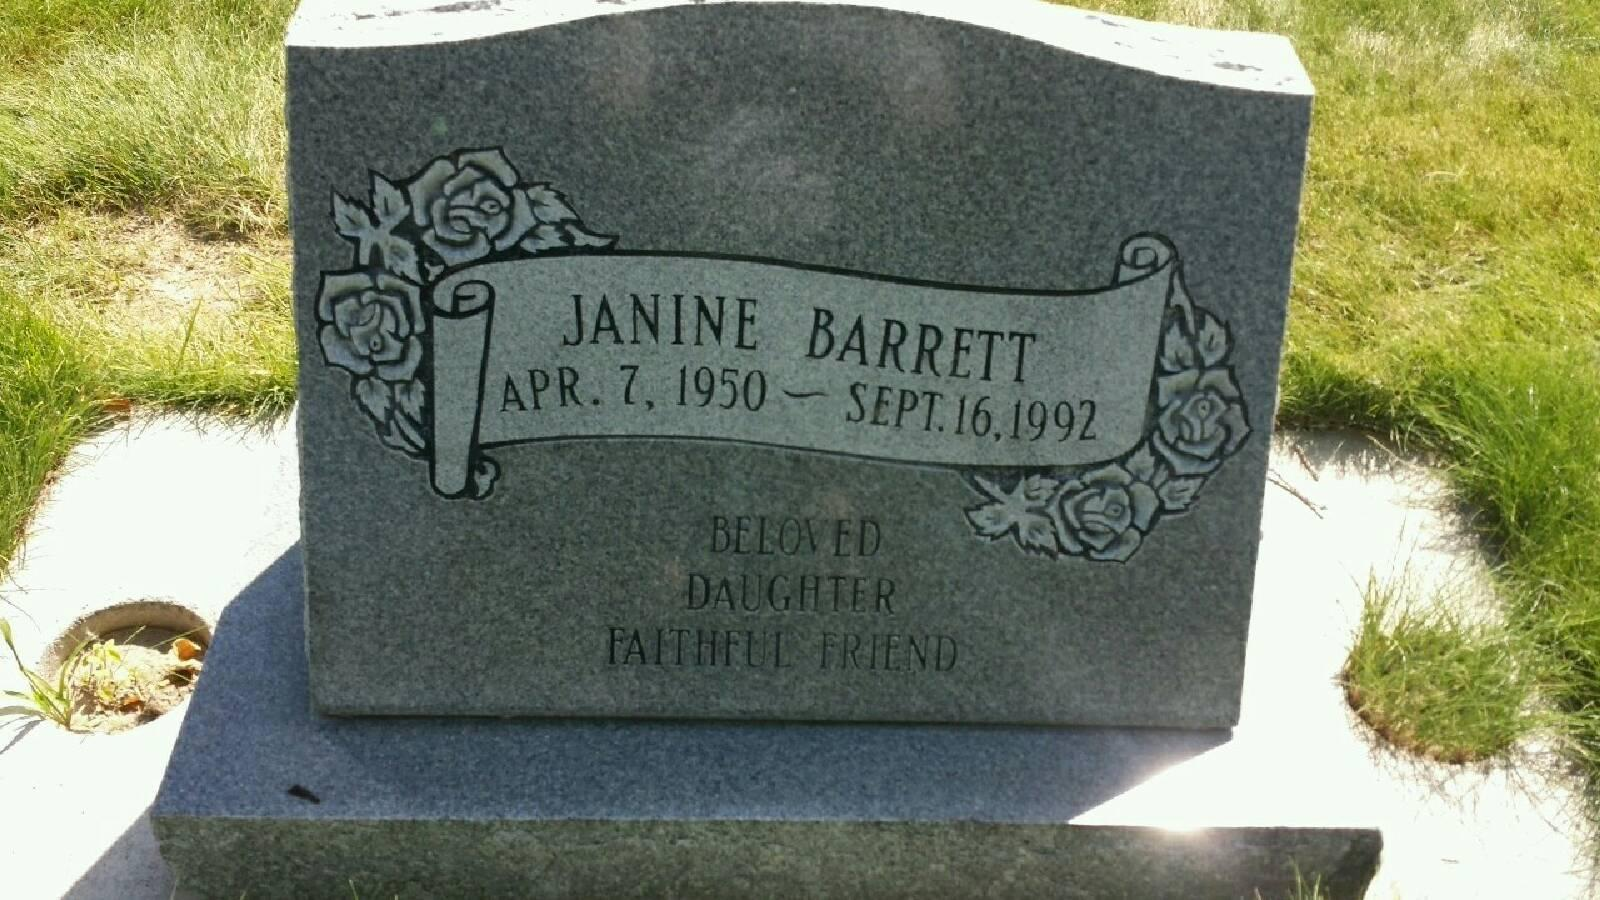upright: (149, 0, 1385, 892)
